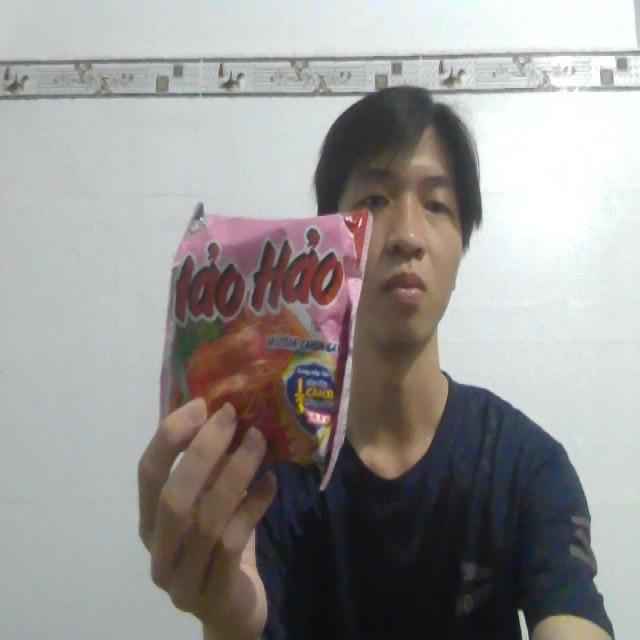mi hao hao: (155, 188, 377, 493)
